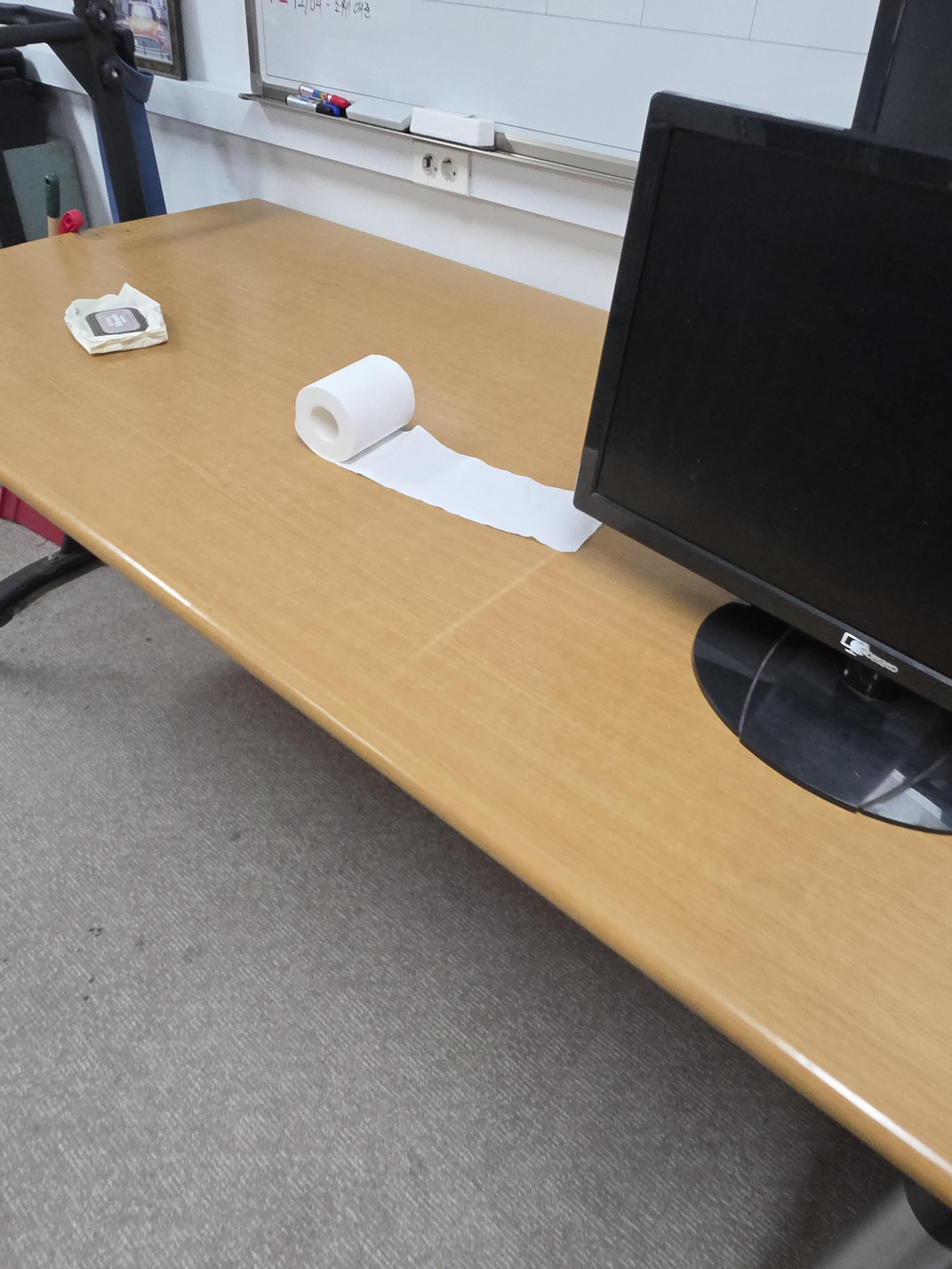tissue: (294, 354, 601, 553)
